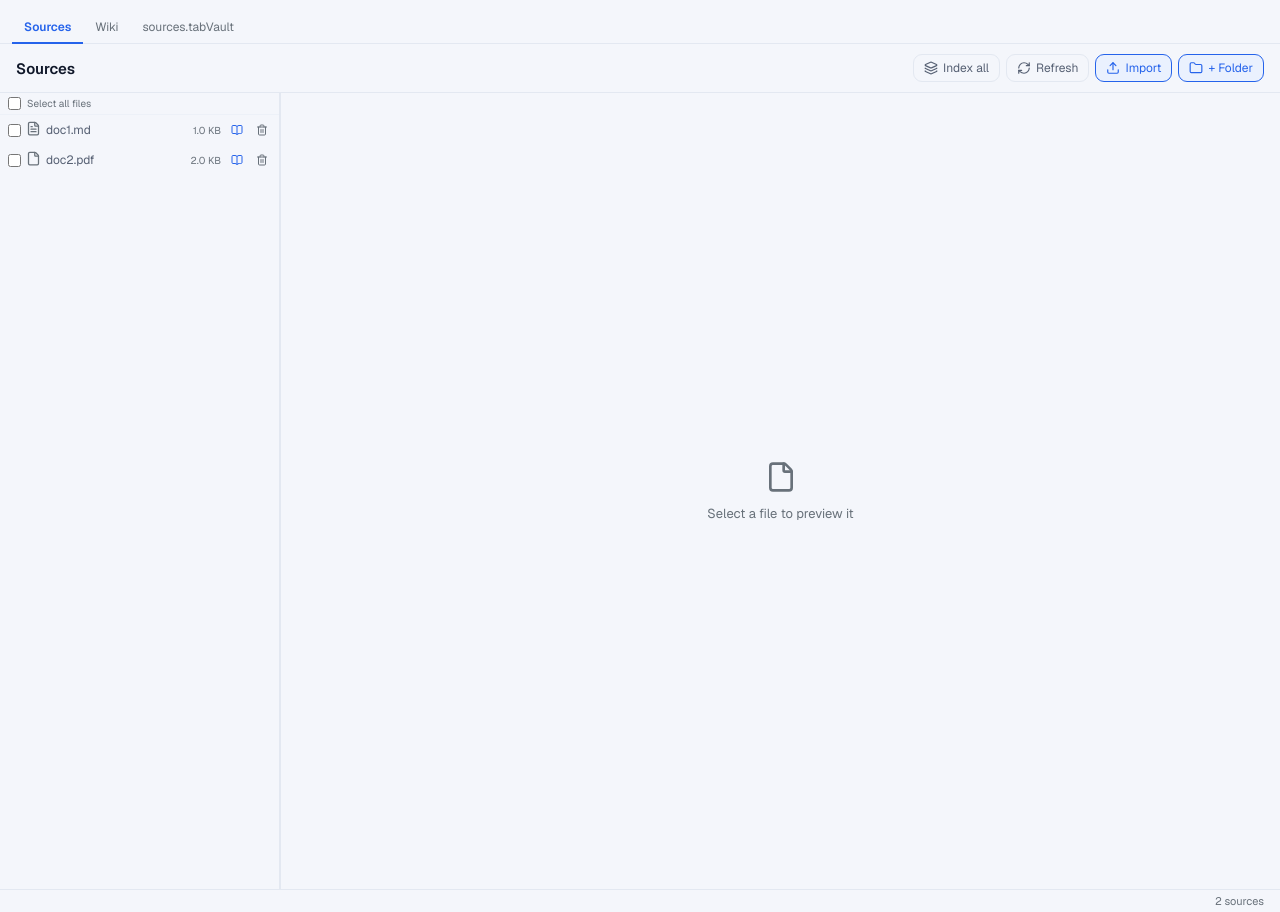
SourcesView — R7-11 bulk multi-select (AC-R7-11-1) › shows bulk action bar when at least one row is checked
Click the 1st checkbox with test id "source-row-checkbox": point(14, 130) x1=8 y1=124 x2=21 y2=136
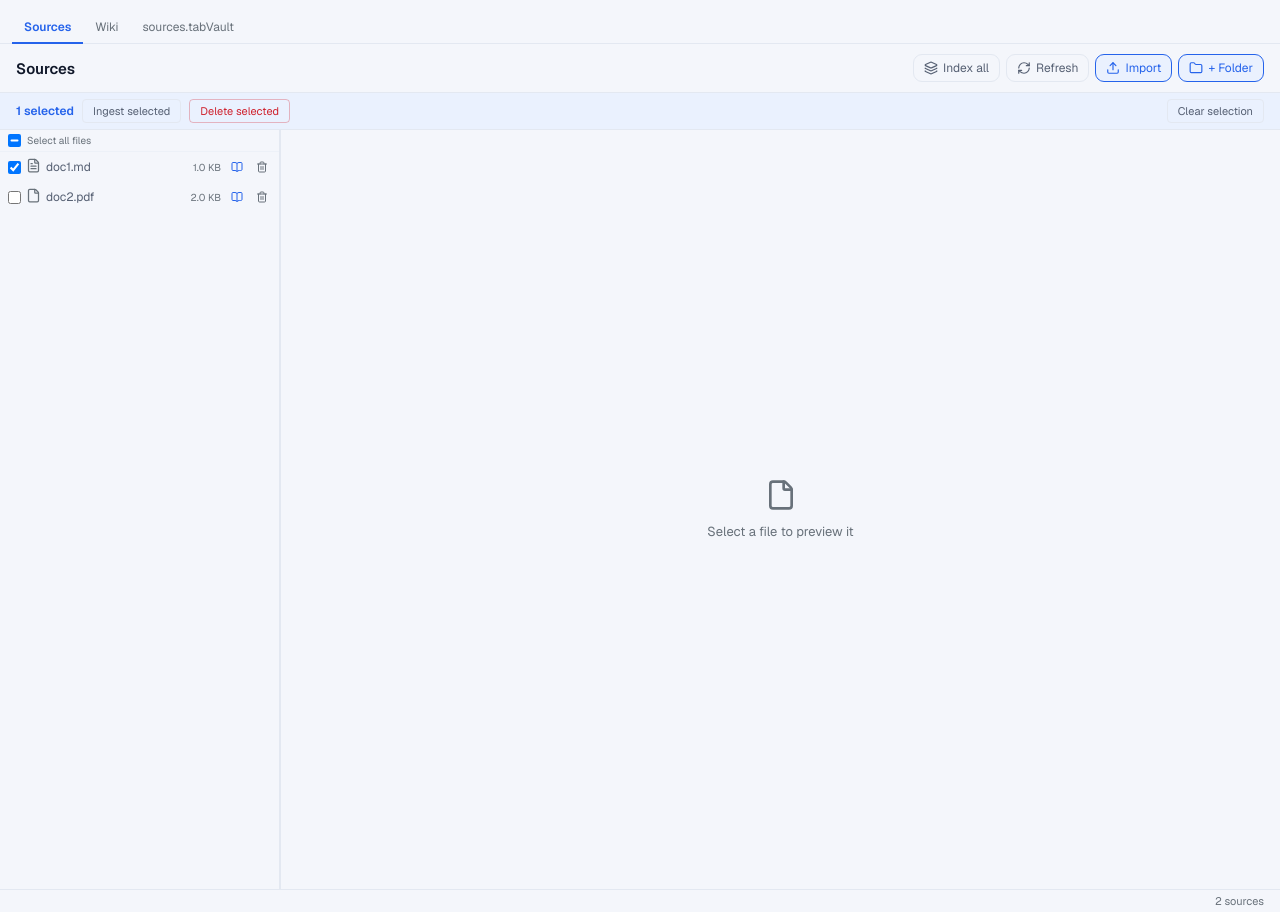
Now the element with test id "sources-bulk-bar" is shown, box x1=0 y1=93 x2=1279 y2=130
Now the button with test id "sources-bulk-ingest" is shown, box x1=82 y1=99 x2=181 y2=123
Now the button with test id "sources-bulk-delete" is shown, box x1=189 y1=99 x2=290 y2=123
